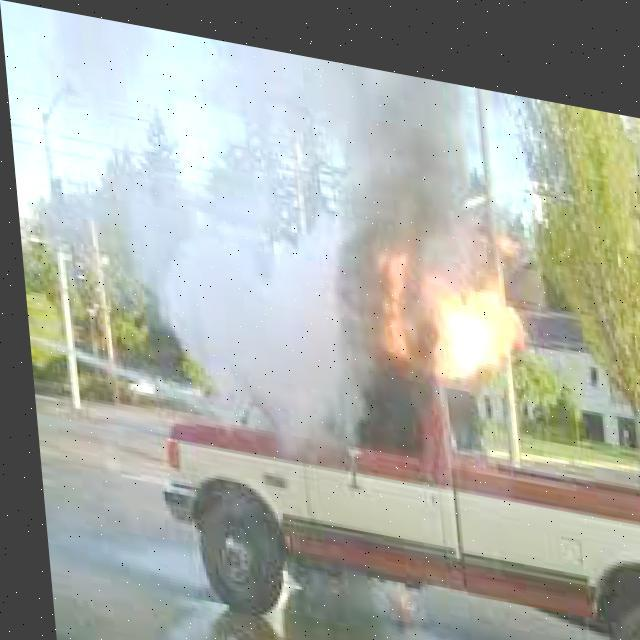Fire: (340, 200, 529, 388)
